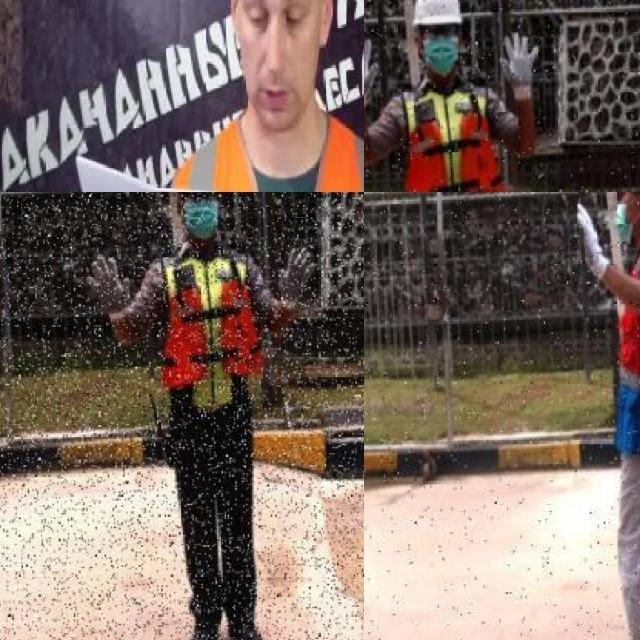apron: (84, 253, 134, 324), (498, 31, 541, 105), (572, 198, 608, 282), (273, 245, 318, 312), (364, 33, 379, 111)
